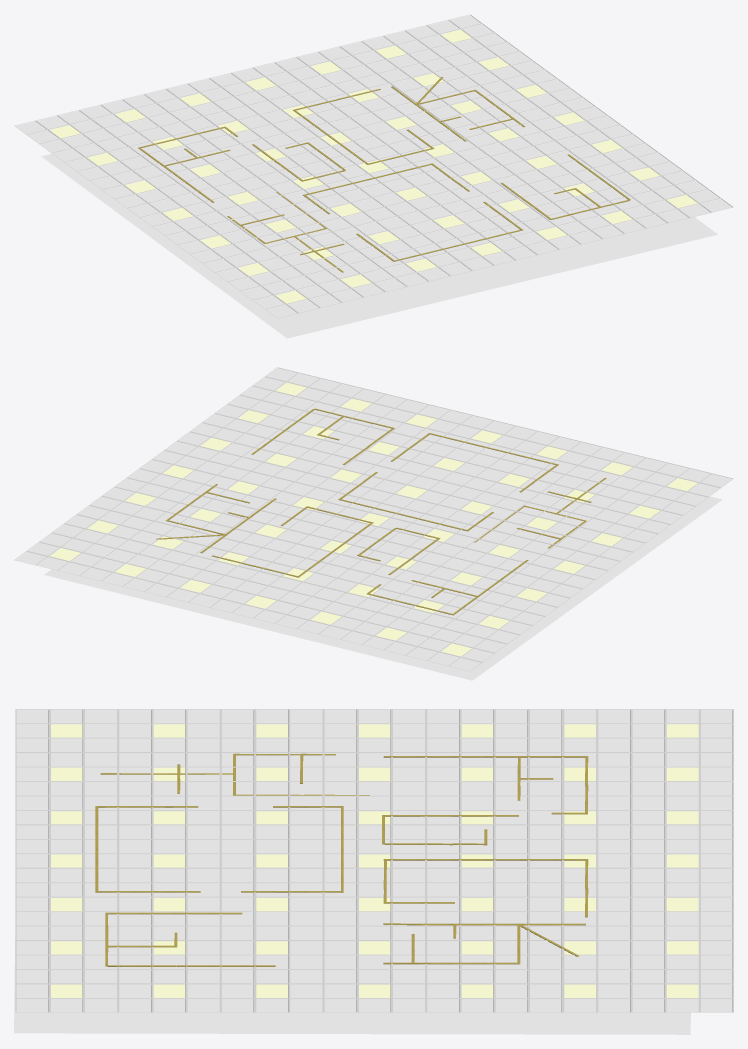
The model's file is lvl0.glb.
3 renders of one model, top to bottom at view 1: azimuth 30°, elevation 25°; view 2: azimuth 150°, elevation 25°; view 3: azimuth 270°, elevation 25°, orthographic. The views are drawn at different scales.
Visible parts, largest first — view 1: Plane, Plane.001; view 2: Plane, Plane.001; view 3: Plane, Plane.001.
Boxes of the visible parts, left/top/right/bottom form: Plane: left=14, top=14, right=733, bottom=318; Plane.001: left=41, top=154, right=717, bottom=338; Plane: left=14, top=367, right=733, bottom=671; Plane.001: left=44, top=496, right=722, bottom=680; Plane: left=15, top=709, right=733, bottom=1012; Plane.001: left=14, top=938, right=690, bottom=1034.
Bounding box in the file's own units: 42 × 2.03 × 42.09.
Materials: 12 (4 with a texture image).
